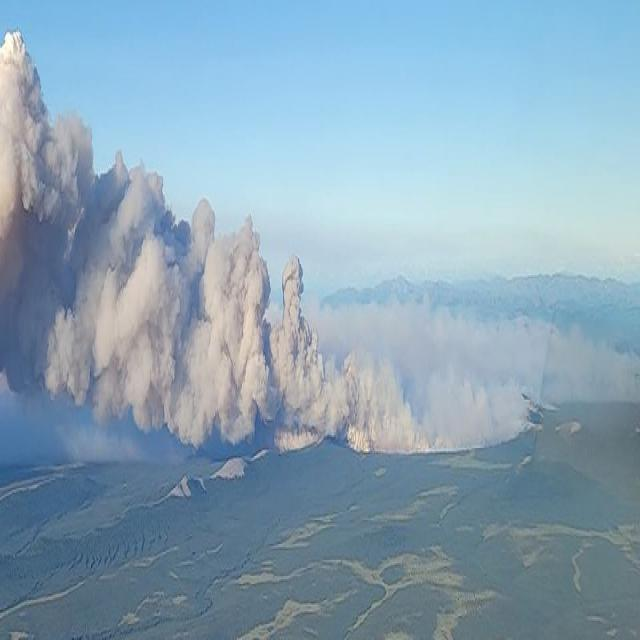Smoke: (0, 28, 412, 452)
